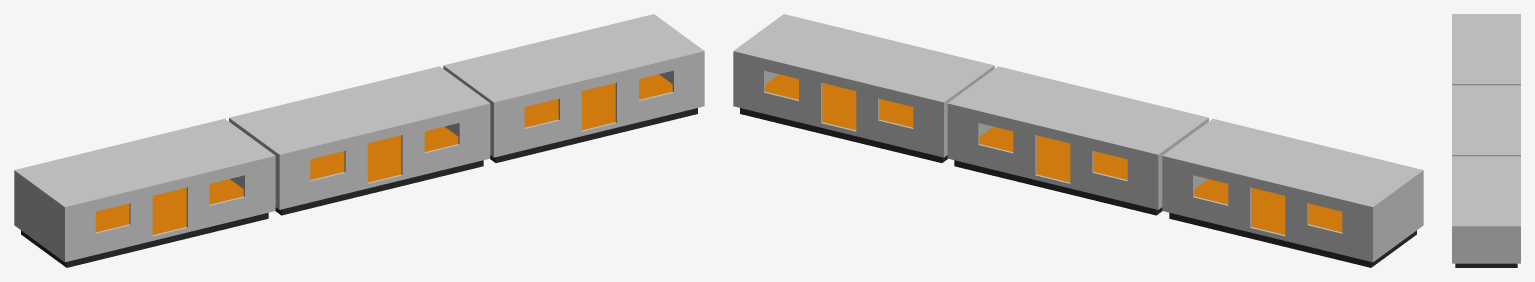
The model's file is train.fbx.
The picture shows the model from 3 angles, left to right: view 1: azimuth 30°, elevation 25°; view 2: azimuth 150°, elevation 25°; view 3: azimuth 270°, elevation 25°; orthographic projection. The views are drawn at different scales.
Visible parts, largest first — view 1: waggon.002, waggon, waggon.003, Cube.004, Cube.001, Cube.006, Cube.005, Cube.002, Cube.007; view 2: waggon.002, waggon, waggon.003, Cube.004, Cube.001, Cube.006, Cube.005, Cube.002, Cube.007; view 3: waggon.003, waggon, waggon.002, Cube.007.
Part boxes in pixels (x1,y1,x2,y2): waggon.002: [14, 118, 275, 262]; waggon: [229, 66, 490, 209]; waggon.003: [443, 14, 704, 157]; Cube.004: [95, 179, 243, 234]; Cube.001: [310, 126, 458, 182]; Cube.006: [524, 74, 672, 130]; Cube.005: [21, 212, 268, 267]; Cube.002: [275, 160, 483, 215]; Cube.007: [490, 108, 697, 162]; waggon.002: [1162, 118, 1423, 262]; waggon: [947, 66, 1208, 209]; waggon.003: [733, 14, 994, 157]; Cube.004: [1194, 179, 1342, 234]; Cube.001: [979, 126, 1127, 182]; Cube.006: [765, 74, 913, 130]; Cube.005: [1169, 212, 1416, 267]; Cube.002: [954, 160, 1162, 215]; Cube.007: [740, 108, 947, 162]; waggon.003: [1452, 156, 1520, 263]; waggon: [1452, 85, 1520, 156]; waggon.002: [1452, 14, 1520, 85]; Cube.007: [1455, 263, 1517, 267].
Bounding box in the file's own units: 7286 × 693 × 1000.
